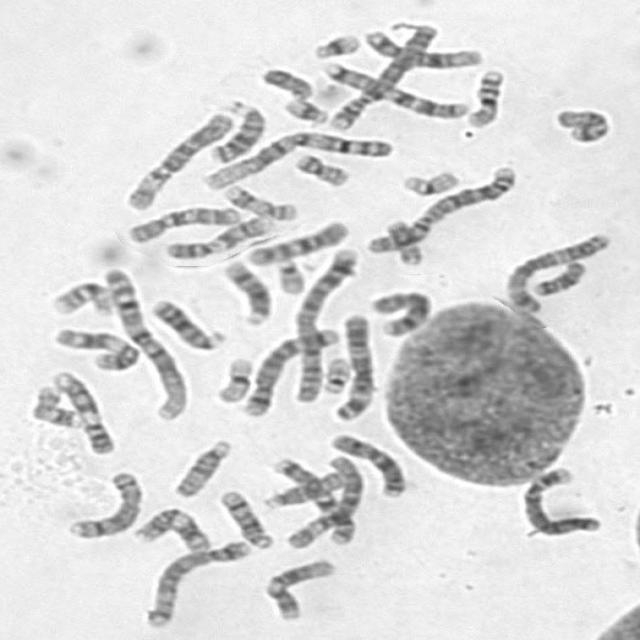A1: (96, 260, 190, 422), (196, 124, 399, 192)
A2: (360, 160, 521, 256), (284, 240, 362, 403)
A3: (497, 226, 614, 314), (325, 307, 377, 423)
B4: (322, 18, 440, 133), (512, 461, 604, 536)
B5: (137, 534, 253, 629), (234, 321, 342, 418)
C10: (238, 214, 352, 266), (120, 199, 243, 244)
C11: (45, 321, 143, 372), (126, 502, 214, 554)
C12: (357, 24, 486, 70), (257, 553, 338, 622)
C6: (119, 105, 236, 212), (270, 450, 364, 547)
C7: (315, 54, 471, 120), (266, 451, 362, 547)
C8: (60, 465, 144, 540), (362, 284, 433, 338)
C9: (46, 364, 116, 455), (158, 210, 275, 260)
D13: (142, 292, 228, 352), (202, 95, 268, 164)
D14: (214, 254, 274, 327), (212, 482, 275, 550)
D15: (165, 432, 235, 498), (254, 464, 348, 511)
E16: (459, 62, 508, 129), (44, 274, 116, 317)
E17: (215, 178, 301, 222), (21, 380, 84, 429)
E18: (546, 102, 613, 144), (526, 255, 589, 297)
F19: (207, 351, 257, 404), (392, 163, 462, 198)
F20: (286, 147, 354, 187), (378, 213, 426, 266)
G21: (305, 26, 362, 61), (276, 91, 332, 126)
G22: (316, 349, 355, 396), (270, 252, 308, 296)
X: (323, 428, 409, 498)
Y: (253, 60, 316, 100)
